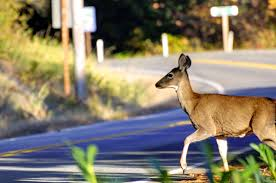deer: (155, 52, 276, 177)
